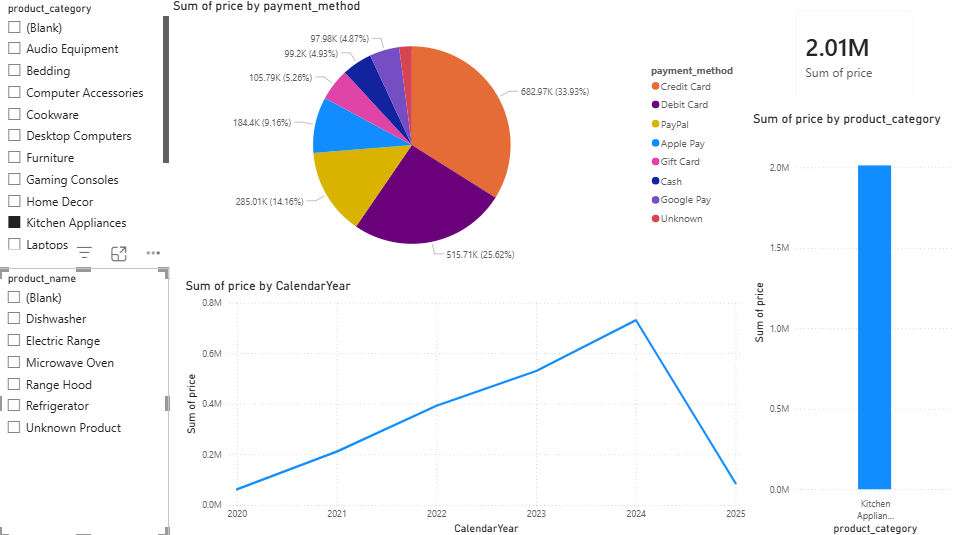

The page's visual inventory and layout, read from the dashboard file:
{"tool":"powerbi","page":{"name":"REPORT 2 — Slicers + Multiple Visuals (Cascading)","canvas":[1280,720],"ordinal":1},"visuals":[{"type":"slicer","fields":{"Values":["DimProduct.product_category"]},"box":[0,0,233.3,340],"z":0},{"type":"slicer","fields":{"Values":["DimProduct.product_name"]},"box":[0,360,228.3,360],"z":1000},{"type":"lineClusteredColumnComboChart","fields":{"Category":["DimProduct.product_category"],"Y":["Sum(FactSales.price)"]},"box":[1001.7,150,278.3,570],"z":2000},{"type":"lineChart","fields":{"Y":["Sum(FactSales.price)"],"Category":["DimDate.CalendarYear"]},"box":[245,373.3,756.7,346.7],"z":3000},{"type":"pieChart","fields":{"Category":["DimPaymentMethod.payment_method"],"Y":["Sum(FactSales.price)"]},"box":[228.3,0,773.3,373.3],"z":4000},{"type":"cardVisual","fields":{"Data":["Sum(FactSales.price)"]},"box":[1046.7,0,190,150],"z":5000}]}

Visuals, with their boxes on the page's 1280x720 design canvas (x1, y1, x2, y2). These are canvas units, not pixel positions in the 953x535 screenshot, which may show the page scaled, cropped or inside an application window:
slicer - DimProduct.product_category: rect(0, 0, 233, 340)
slicer - DimProduct.product_name: rect(0, 360, 228, 720)
lineClusteredColumnComboChart - DimProduct.product_category x Sum(FactSales.price): rect(1002, 150, 1280, 720)
lineChart - Sum(FactSales.price) x DimDate.CalendarYear: rect(245, 373, 1002, 720)
pieChart - DimPaymentMethod.payment_method x Sum(FactSales.price): rect(228, 0, 1002, 373)
cardVisual - Sum(FactSales.price): rect(1047, 0, 1237, 150)
